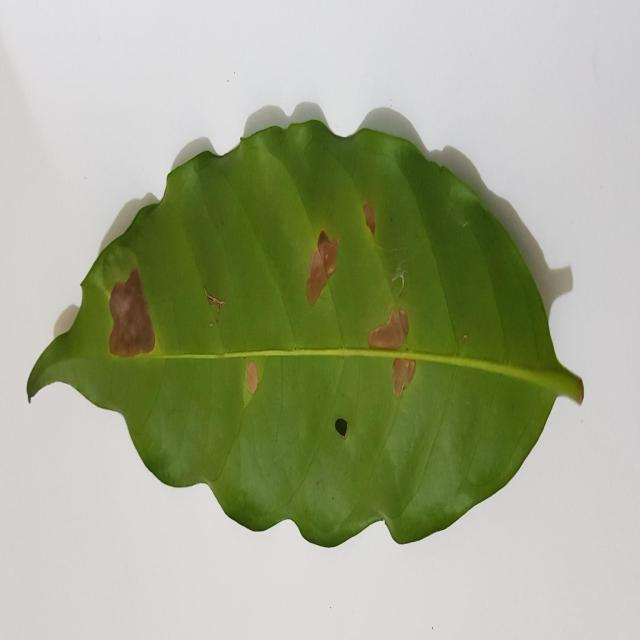miner: (109, 270, 155, 357), (307, 230, 338, 305), (368, 307, 409, 349), (393, 358, 416, 399), (244, 357, 264, 398), (362, 199, 376, 234)
